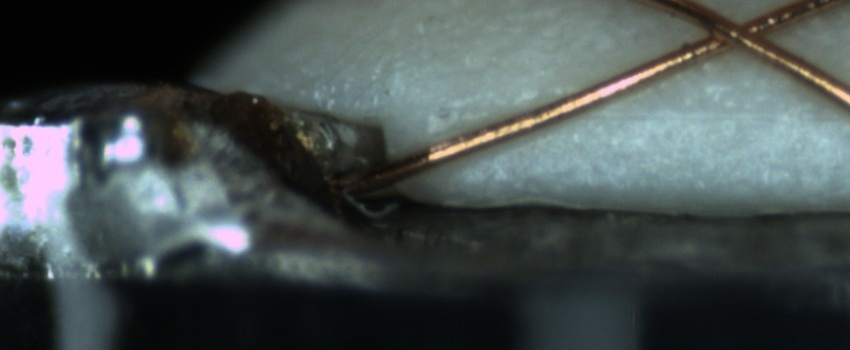CL: (678, 2, 787, 63)
DL: (484, 88, 850, 152)
